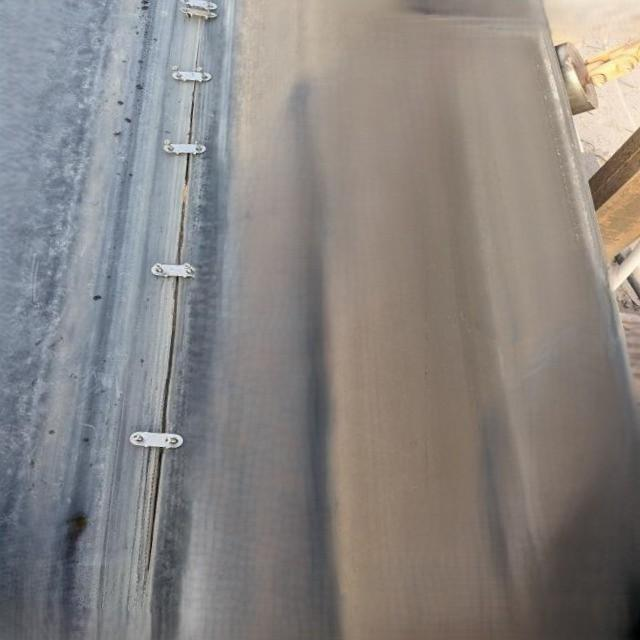Tear: (141, 76, 202, 578)
